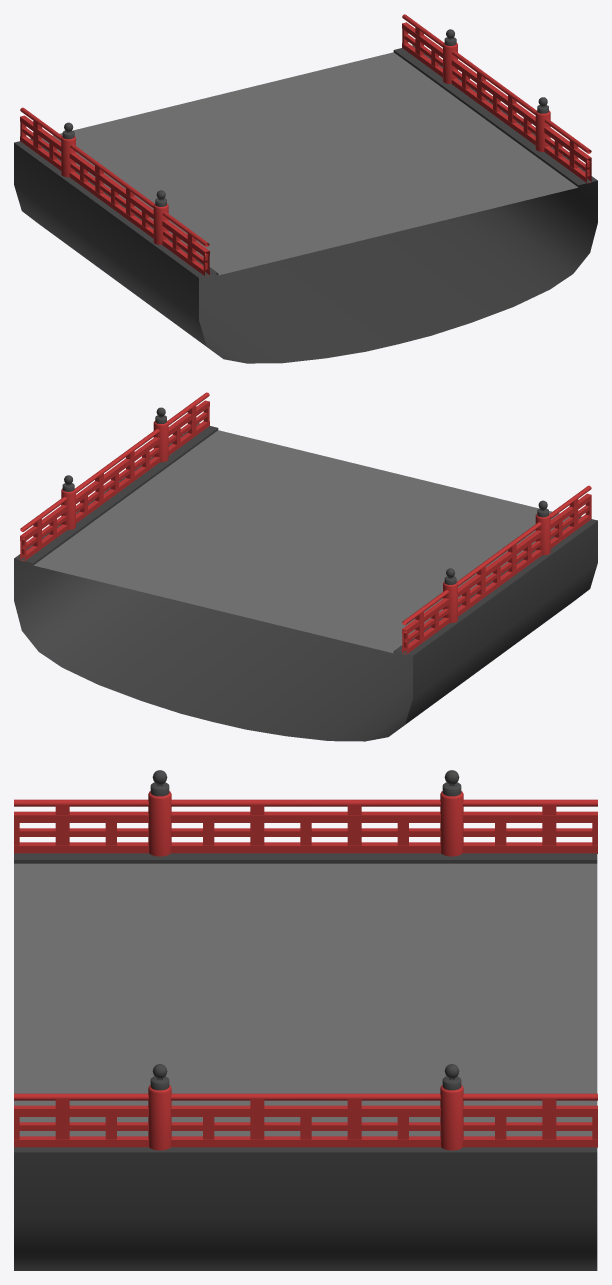
The model's file is Japan_Road_Single.FBX.
3 views of the same model, one above another, from view 1: azimuth 30°, elevation 25°; view 2: azimuth 150°, elevation 25°; view 3: azimuth 270°, elevation 25° (orthographic). The views are drawn at different scales.
Visible parts, largest first — view 1: BASE_LEVEL008; view 2: BASE_LEVEL008; view 3: BASE_LEVEL008.
Part boxes in pixels (x1,y1,x2,y2): BASE_LEVEL008: (14, 14, 597, 363); BASE_LEVEL008: (14, 392, 597, 741); BASE_LEVEL008: (14, 770, 597, 1270).
Bounding box in the file's own units: 562 × 224 × 452.
